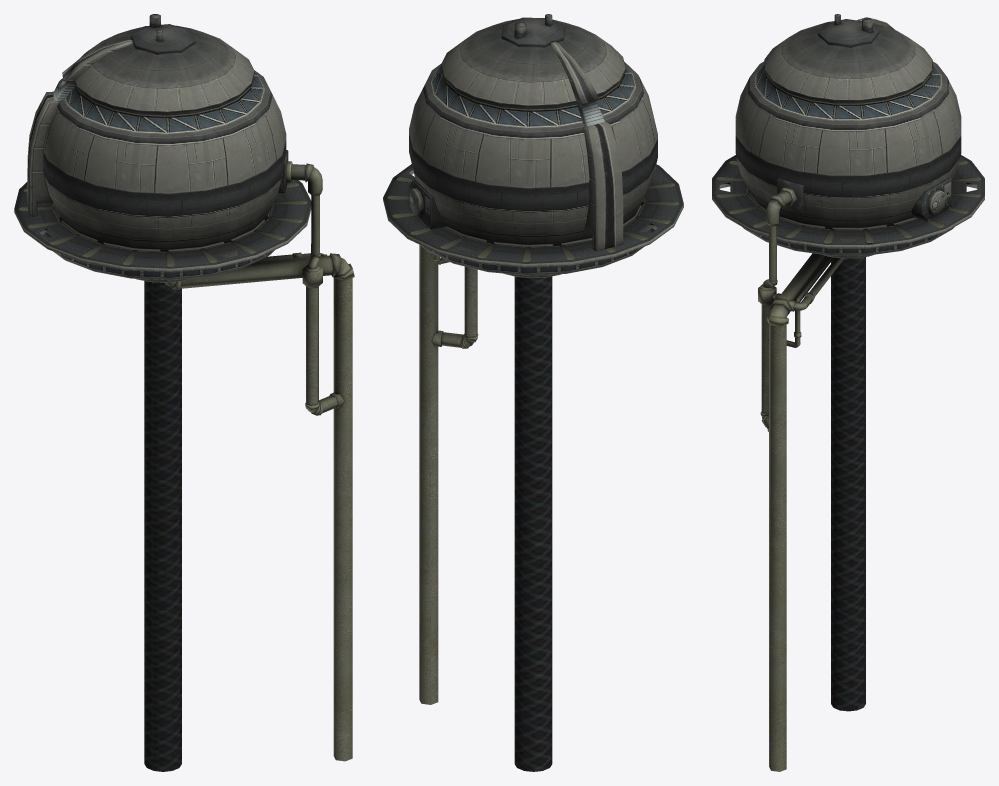
The model's file is water_tower.glb.
3 views of the same model, side by side, from view 1: azimuth 30°, elevation 25°; view 2: azimuth 150°, elevation 25°; view 3: azimuth 270°, elevation 25° (orthographic). The views are drawn at different scales.
Parts seen in each view (by area): view 1: objwaterTower; view 2: objwaterTower; view 3: objwaterTower.
Part boxes in pixels (bbox=[...]): objwaterTower: bbox=[14, 14, 354, 771]; objwaterTower: bbox=[383, 14, 683, 771]; objwaterTower: bbox=[712, 14, 984, 771].
Bounding box in the file's own units: 51.49 × 130 × 46.95.
1 material, 1 textured.
